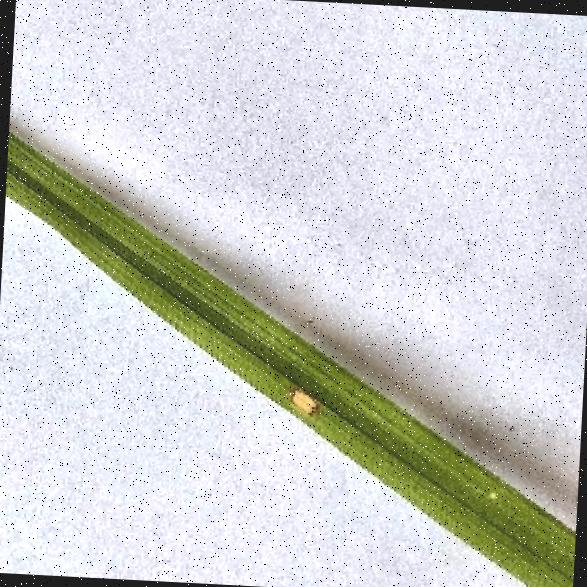Leaf_smut: (243, 372, 352, 414)
